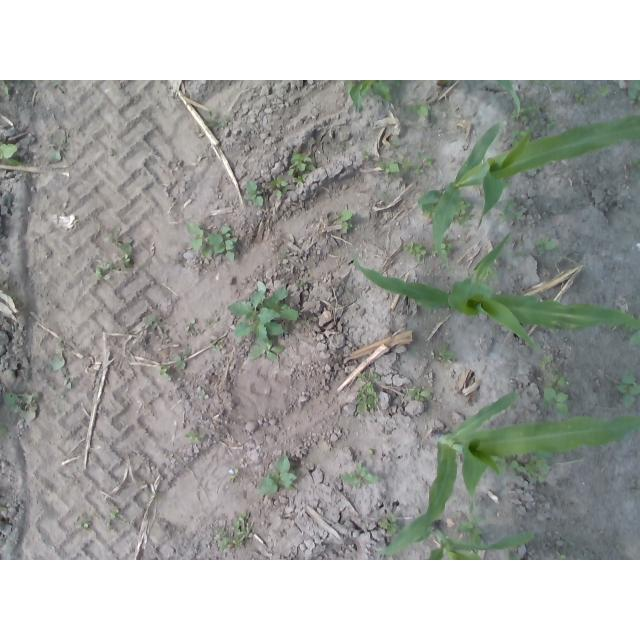Maize: (371, 392, 640, 556), (419, 115, 640, 272), (352, 231, 636, 353), (424, 524, 537, 561), (433, 80, 524, 114)
Weeds: (225, 279, 299, 362), (489, 450, 551, 484), (187, 219, 237, 261), (340, 80, 401, 110), (256, 454, 297, 495), (213, 513, 251, 552), (104, 229, 135, 272), (2, 390, 39, 422), (613, 369, 640, 410), (355, 371, 381, 413), (341, 463, 379, 490), (46, 354, 72, 391), (544, 381, 569, 416), (458, 515, 485, 546), (289, 153, 316, 183), (377, 156, 415, 175), (46, 135, 70, 164), (511, 100, 541, 121), (498, 200, 523, 223), (432, 235, 457, 258), (0, 141, 22, 167), (404, 241, 428, 264), (377, 513, 401, 535), (452, 202, 473, 227), (244, 179, 264, 205), (203, 107, 226, 129), (269, 175, 290, 198), (508, 128, 532, 148), (534, 237, 558, 256), (528, 80, 563, 93), (406, 386, 431, 402), (173, 349, 192, 370), (435, 345, 454, 364), (628, 80, 640, 110), (94, 260, 111, 281), (410, 100, 431, 117), (629, 316, 640, 348), (336, 209, 352, 231), (477, 266, 499, 281), (550, 369, 568, 387), (183, 317, 199, 337), (184, 429, 205, 443), (418, 152, 435, 169), (420, 201, 436, 219), (608, 322, 636, 332), (74, 519, 91, 531), (157, 366, 172, 379), (573, 92, 587, 105), (506, 549, 522, 560), (596, 85, 612, 96), (540, 355, 553, 368), (360, 147, 372, 160), (0, 81, 10, 96), (147, 314, 159, 326), (630, 158, 640, 171), (589, 93, 599, 104), (210, 342, 222, 351), (547, 116, 556, 128), (390, 139, 400, 149), (109, 509, 119, 519), (555, 552, 566, 561), (416, 163, 425, 173), (0, 426, 8, 437), (297, 279, 307, 287), (635, 478, 640, 493), (281, 250, 288, 258)
